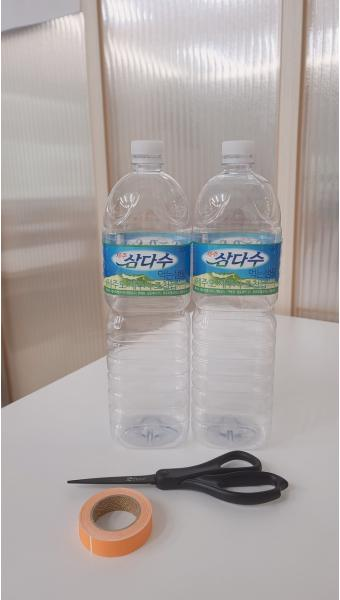plastic_bottle: (98, 133, 197, 453), (192, 129, 279, 455)
